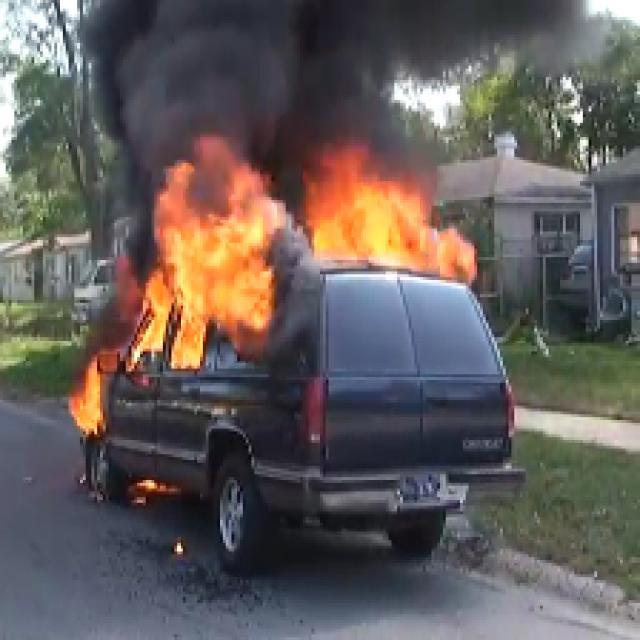Fire: (136, 172, 277, 366), (312, 174, 478, 287), (67, 356, 109, 438)
Smoke: (91, 0, 602, 139)
